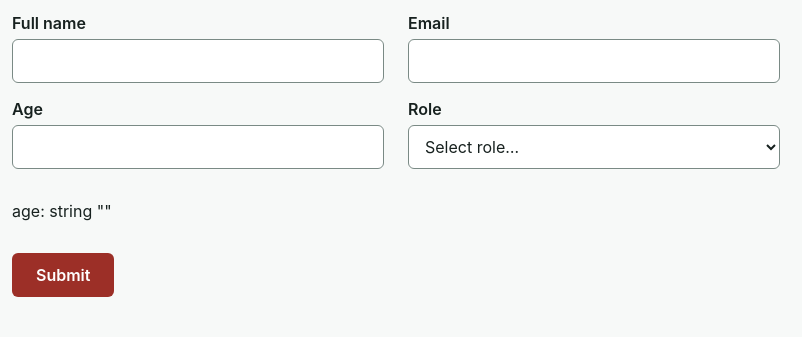
Scenario: InputField › removes the error element and aria-describedby once the value is fixed
In the field labelled "Full name": (198, 61) [12,39,384,83], type "A"
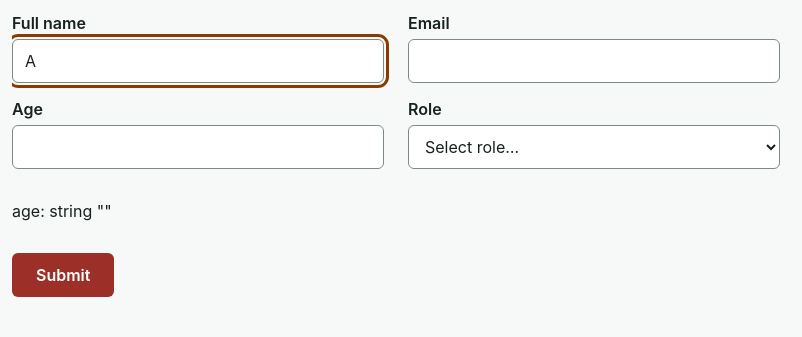
Press Tab
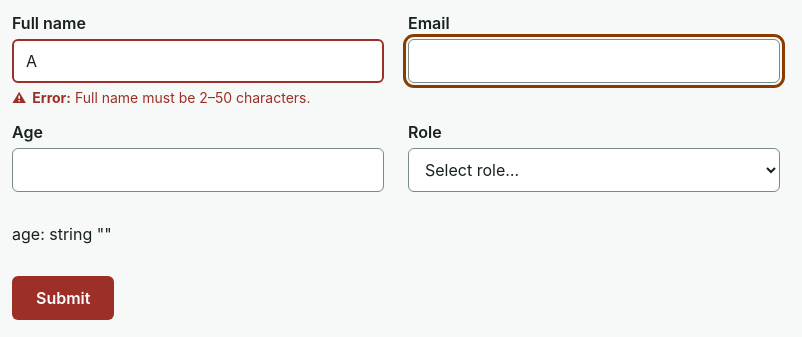
In the field labelled "Full name": (198, 61) [12,39,384,83], type "n"
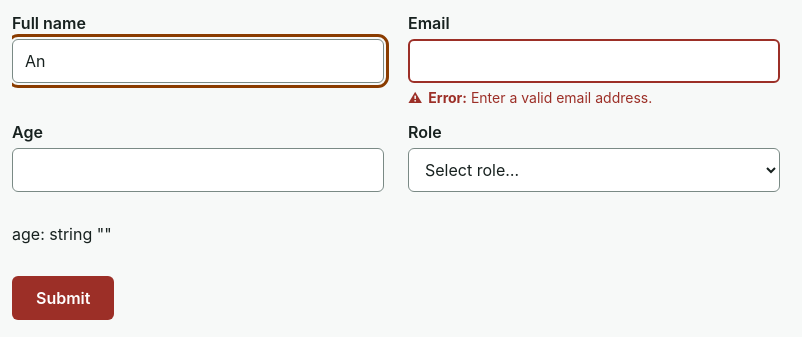
Expected: the text "Full name must be 2–50 characters." is gone
